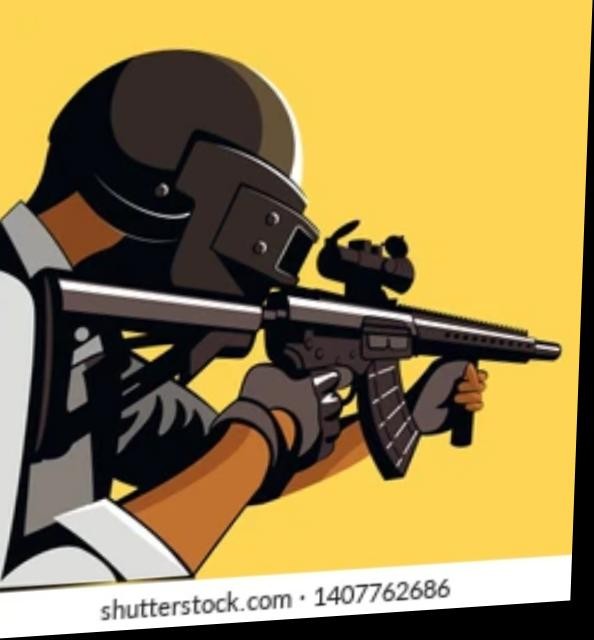other: (0, 51, 353, 578)
